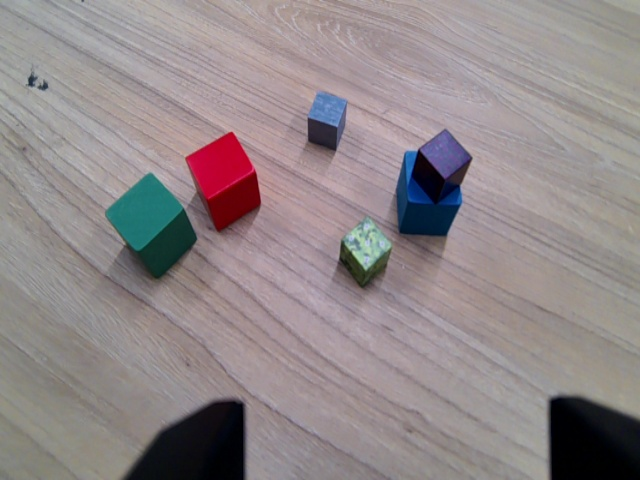brick: (411, 125, 472, 205)
grass: (335, 213, 394, 286)
stone: (302, 88, 353, 156)
